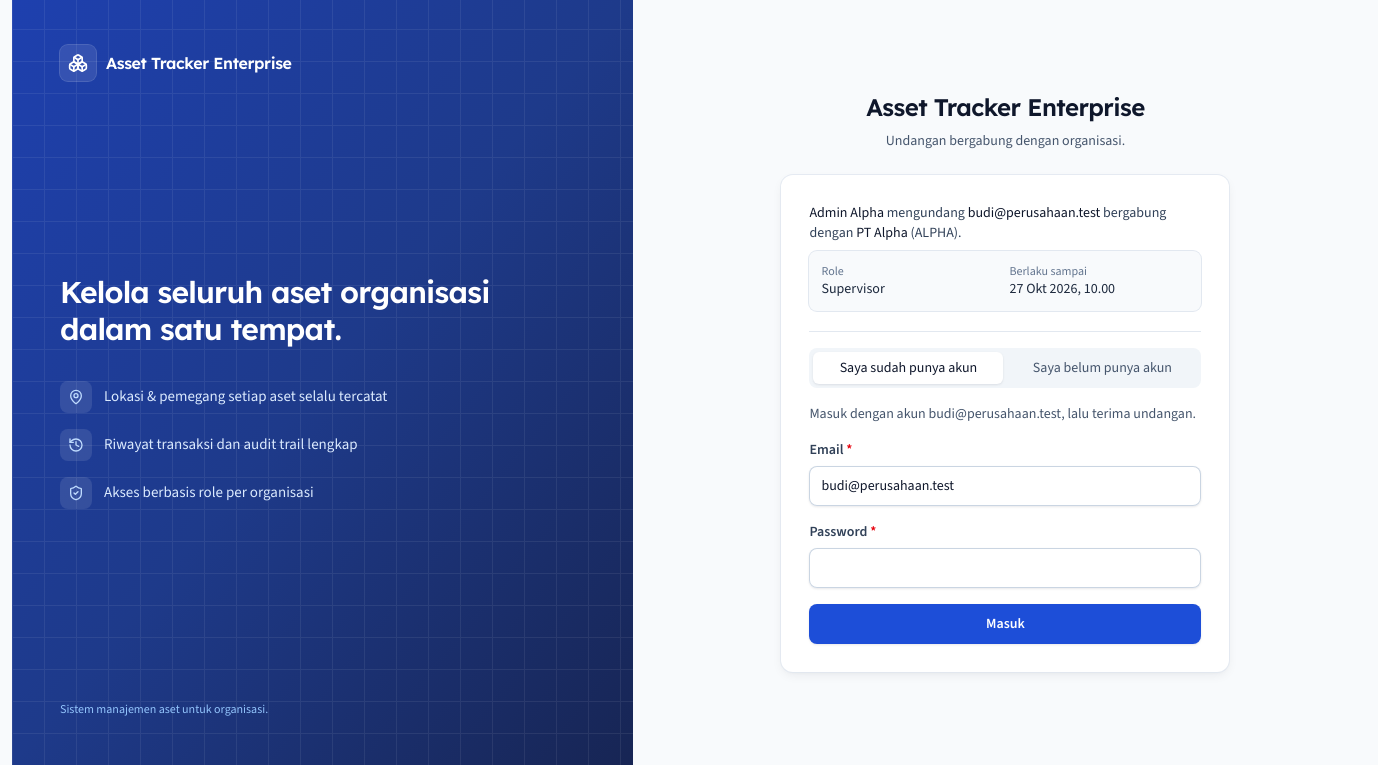
InvitationPage › signs up an address without an account through the invitation
This screenshot has width=1378, height=765.
Click the tab "Saya belum punya akun" at (1102, 368), box [1007,352,1197,384]
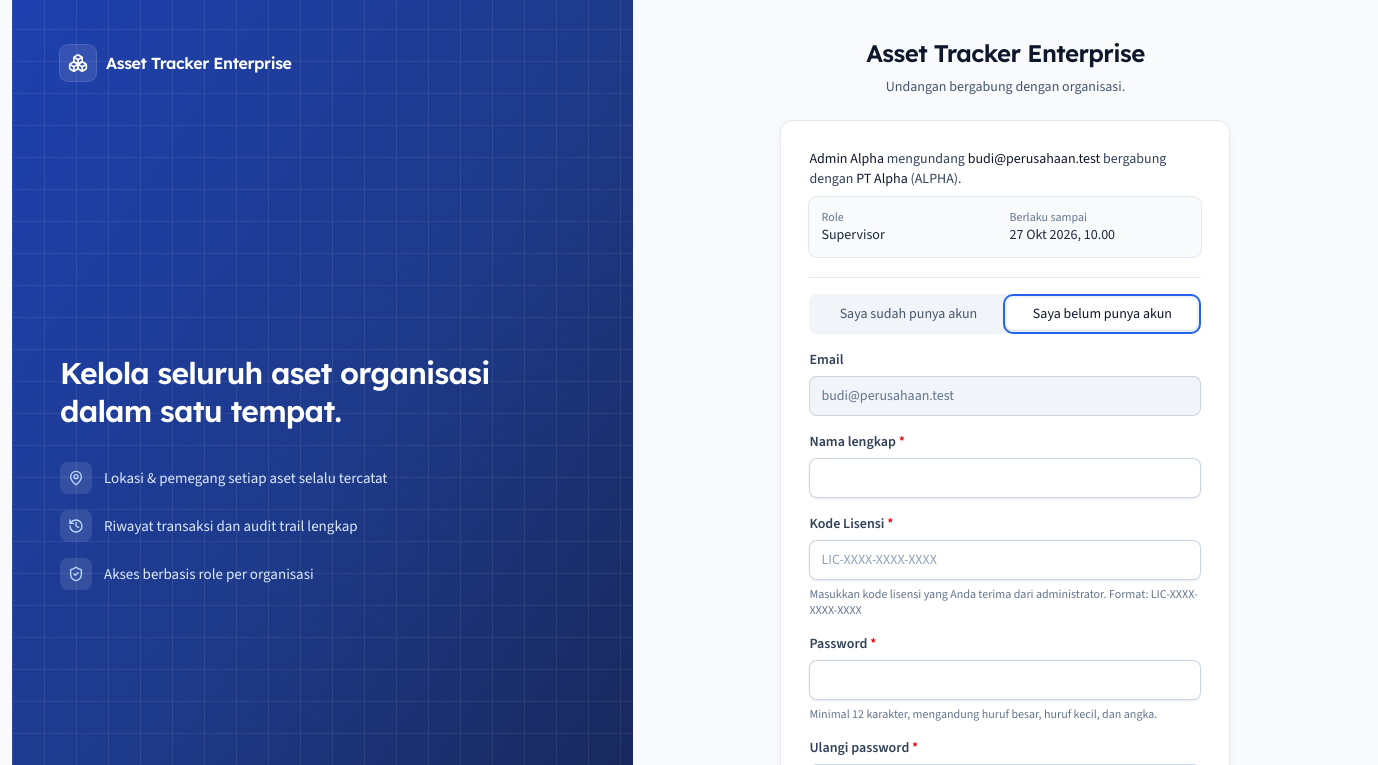
Type "Budi" into the field labelled "Nama lengkap *" at (1005, 478), box [809,458,1201,498]
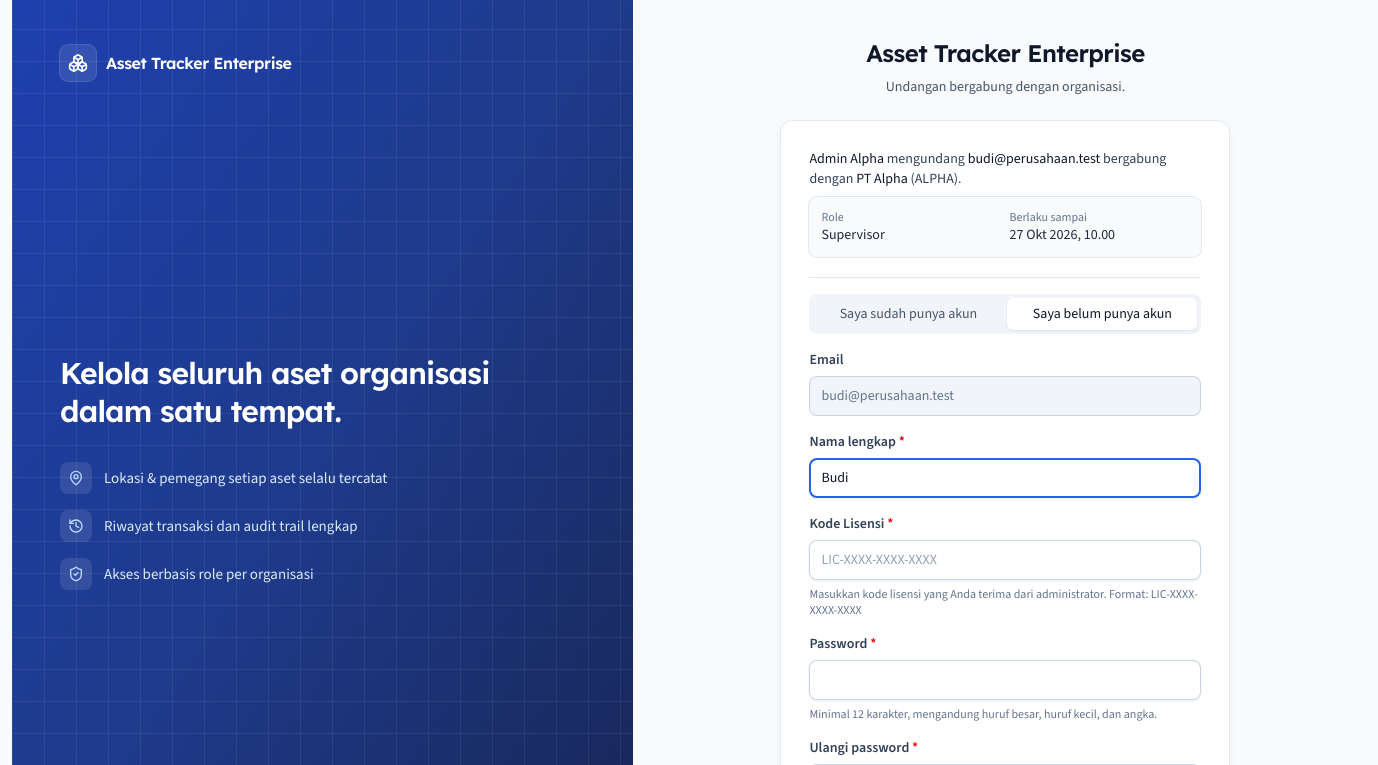
Type "LIC-AAAA-BBBB-CCCC" into the field labelled "Kode Lisensi *" at (1005, 560), box [809,540,1201,580]
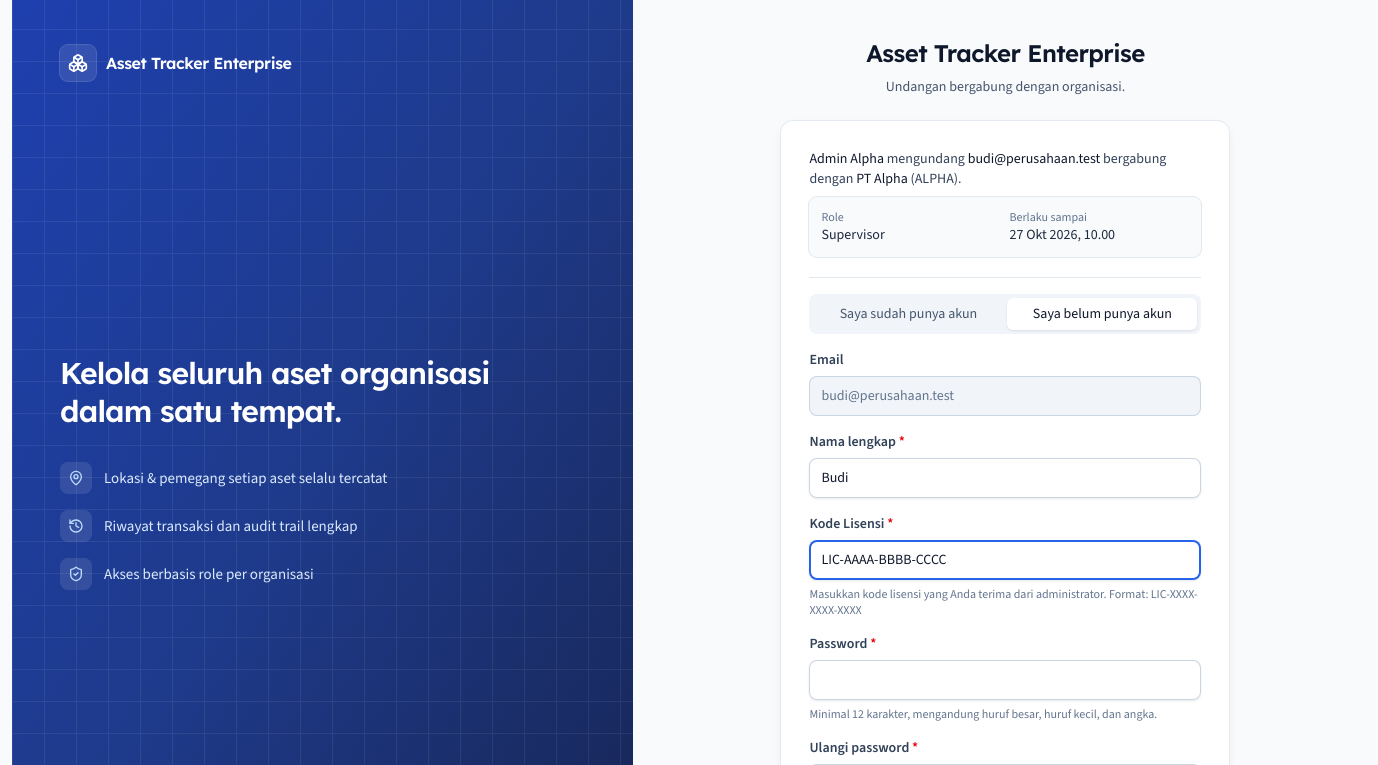
Type "Rahasia-Kuat-2026" into the password field labelled "Password *" at (1005, 680), box [809,660,1201,700]
(page scrolled)
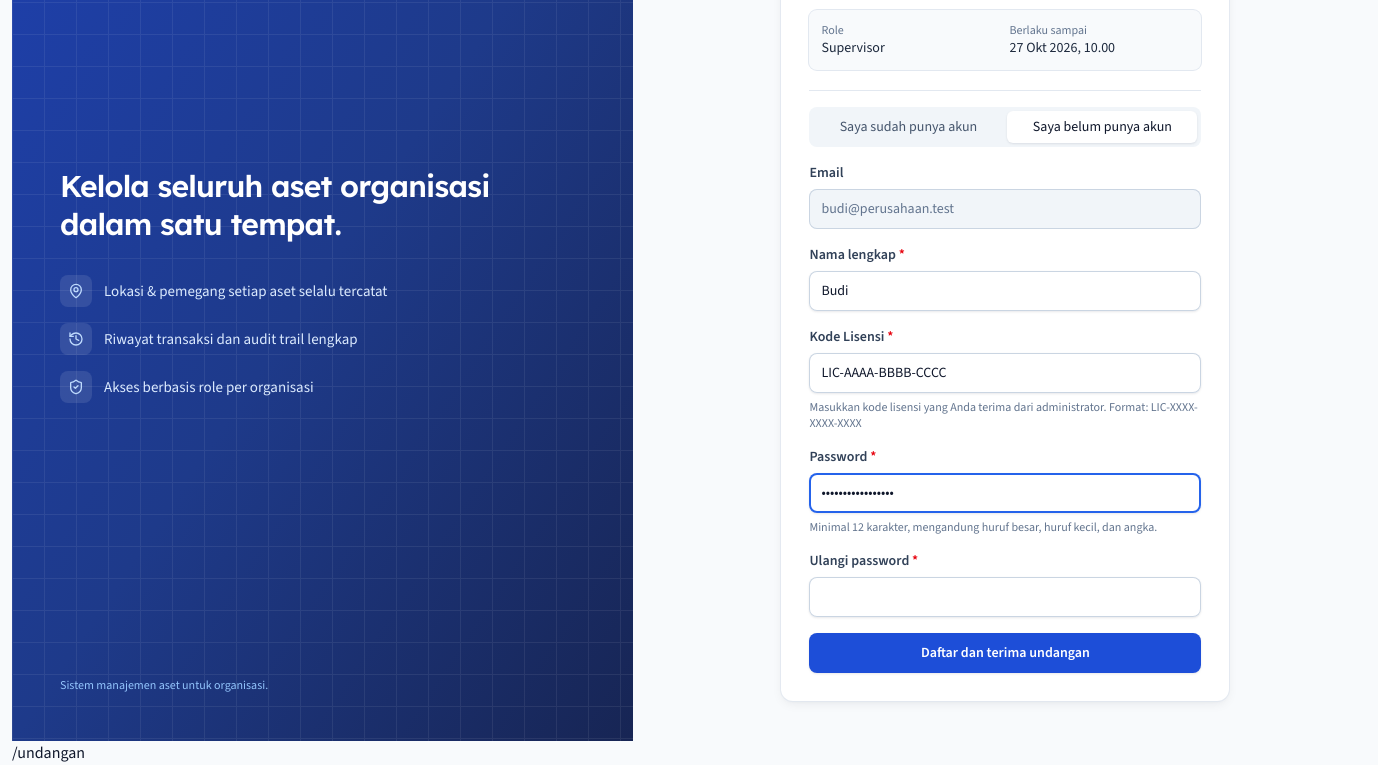
Type "Rahasia-Kuat-2026" into the password field labelled "Ulangi password *" at (1005, 597), box [809,577,1201,617]
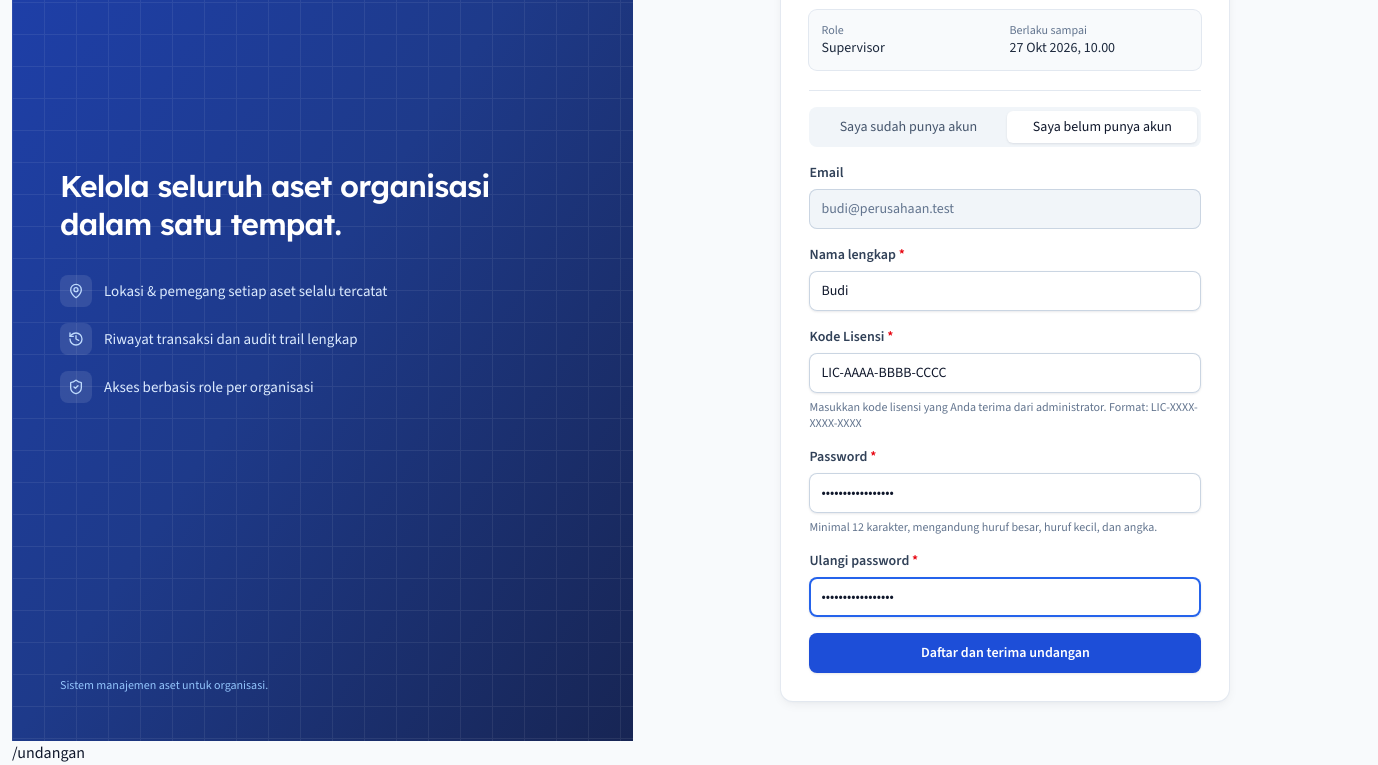
Click the button "Daftar dan terima undangan" at (1005, 653), box [809,633,1201,673]
(page scrolled)
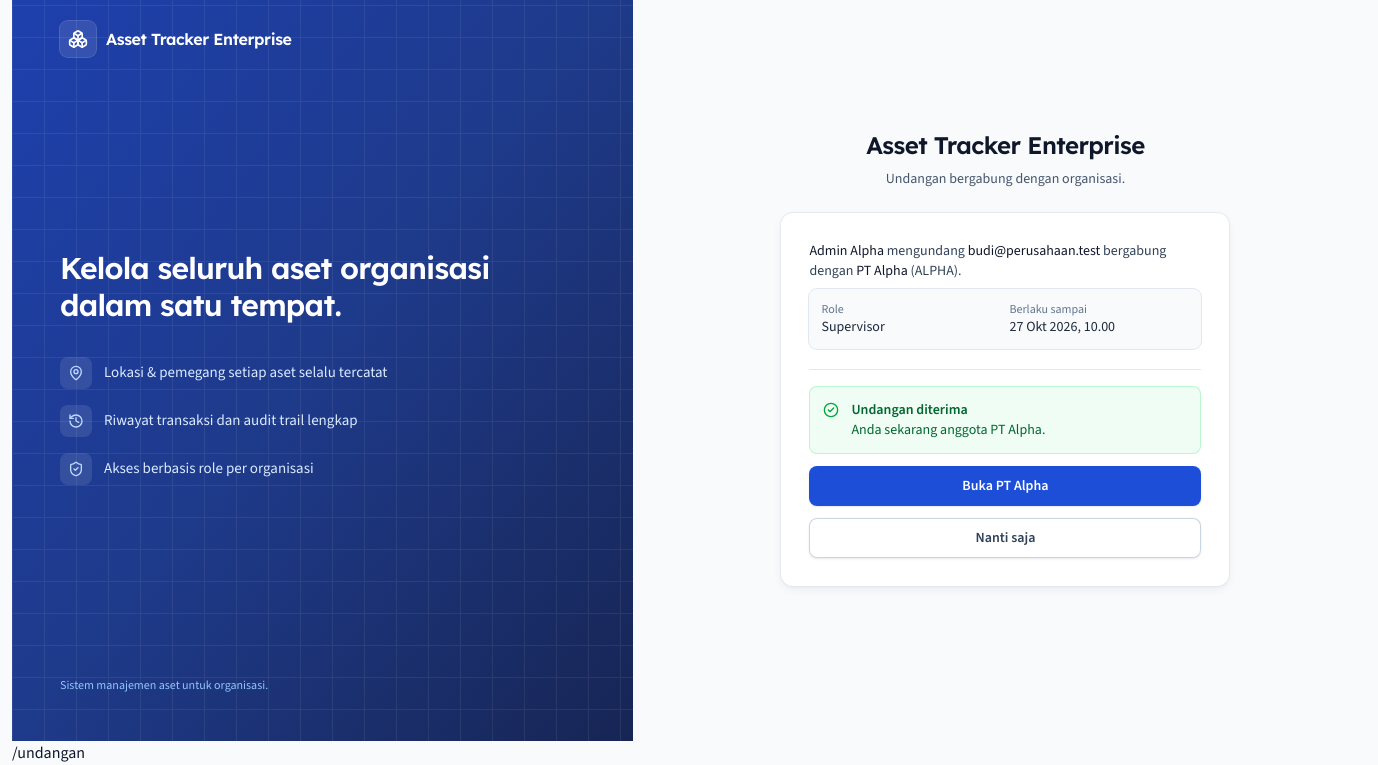
Check: the text "Undangan diterima" is shown, box [851,400,968,418]
